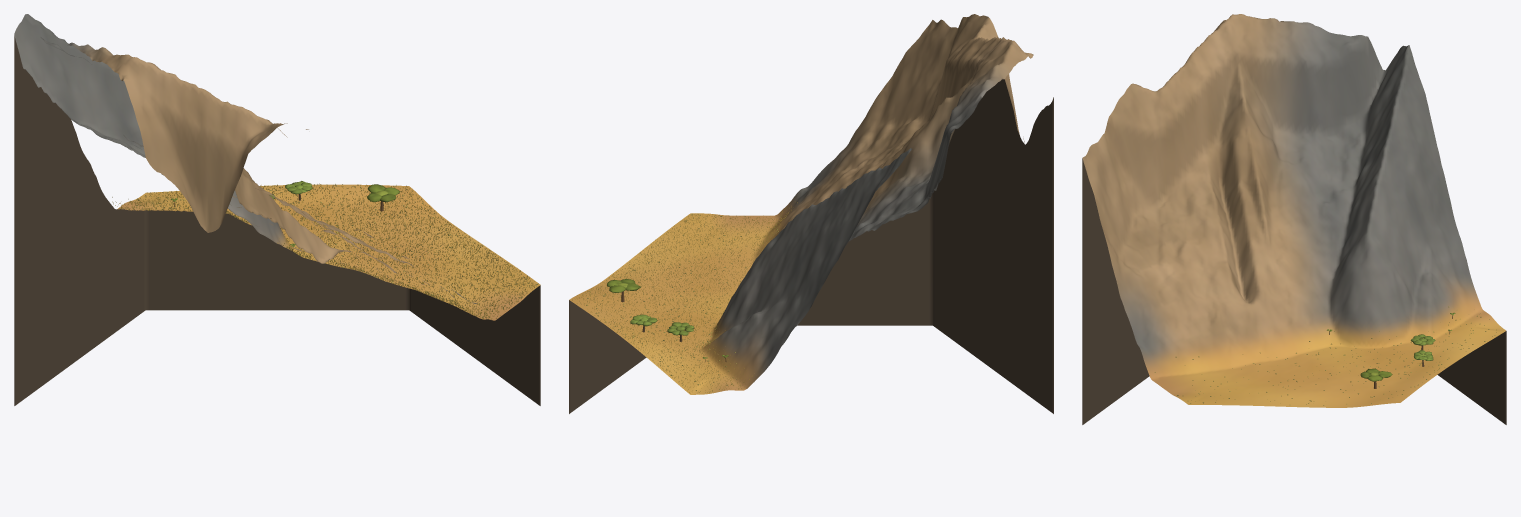
The picture shows the model from 3 angles, left to right: view 1: azimuth 30°, elevation 25°; view 2: azimuth 150°, elevation 25°; view 3: azimuth 270°, elevation 25°; orthographic projection. The views are drawn at different scales.
Parts seen in each view (by area): view 1: hex_side_cut, terrain, SV2_W_wildflowers, SV_W_wildflowers, SV_W_broadleaf_canopy; view 2: terrain, hex_side_cut, SV2_W_wildflowers, SV_W_wildflowers, SV_W_broadleaf_canopy; view 3: terrain, hex_side_cut, SV_W_broadleaf_canopy.
Part boxes in pixels (left/top/right/bottom): hex_side_cut: left=14, top=35, right=540, bottom=405; terrain: left=14, top=14, right=540, bottom=320; SV2_W_wildflowers: left=277, top=185, right=538, bottom=319; SV_W_wildflowers: left=112, top=183, right=418, bottom=265; SV_W_broadleaf_canopy: left=171, top=181, right=400, bottom=246; terrain: left=569, top=14, right=1033, bottom=394; hex_side_cut: left=569, top=79, right=1053, bottom=413; SV2_W_wildflowers: left=572, top=201, right=797, bottom=313; SV_W_wildflowers: left=577, top=290, right=754, bottom=393; SV_W_broadleaf_canopy: left=607, top=279, right=728, bottom=358; terrain: left=1082, top=14, right=1505, bottom=407; hex_side_cut: left=1082, top=158, right=1506, bottom=424; SV_W_broadleaf_canopy: left=1327, top=312, right=1455, bottom=381.
Bounding box in the file's own units: 4330 × 4421 × 5000.
